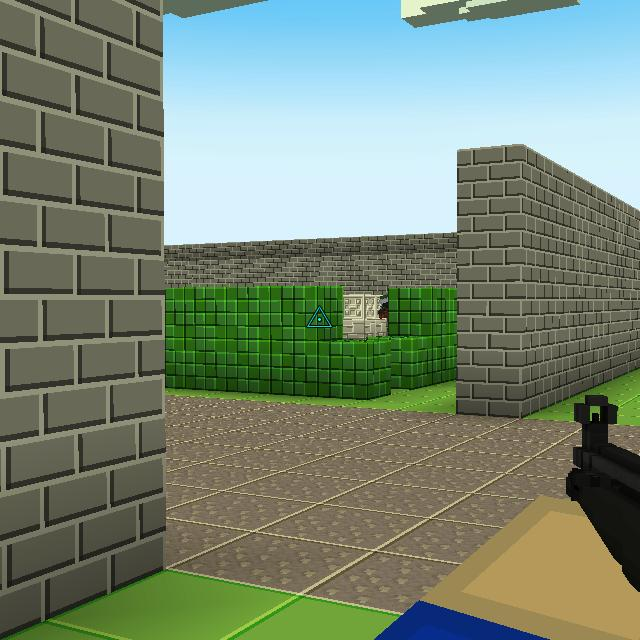enemy: (378, 291, 390, 320)
